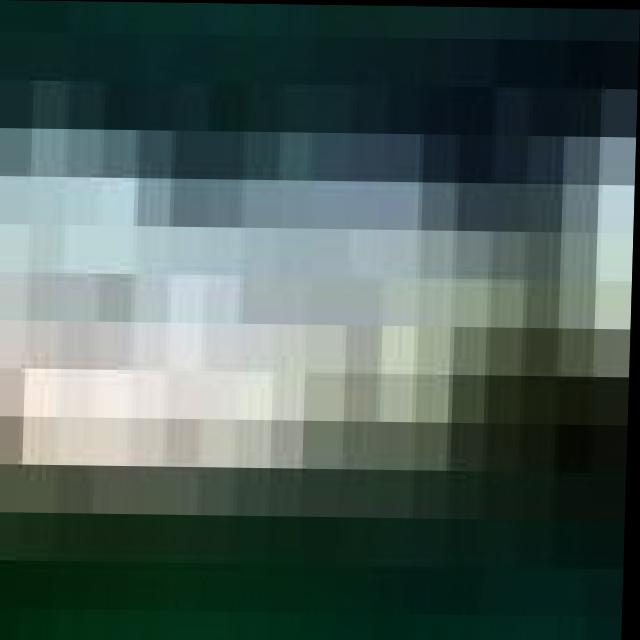transistor: (509, 6, 640, 640)
